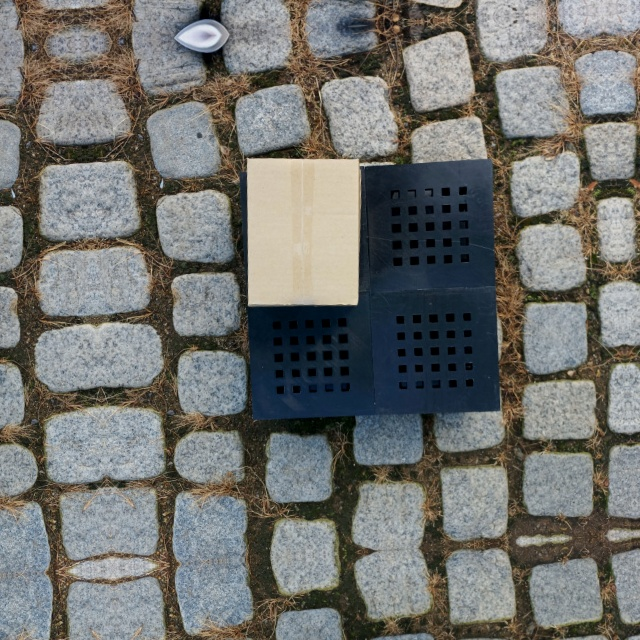box: (243, 154, 363, 309)
pallet: (242, 157, 506, 433)
